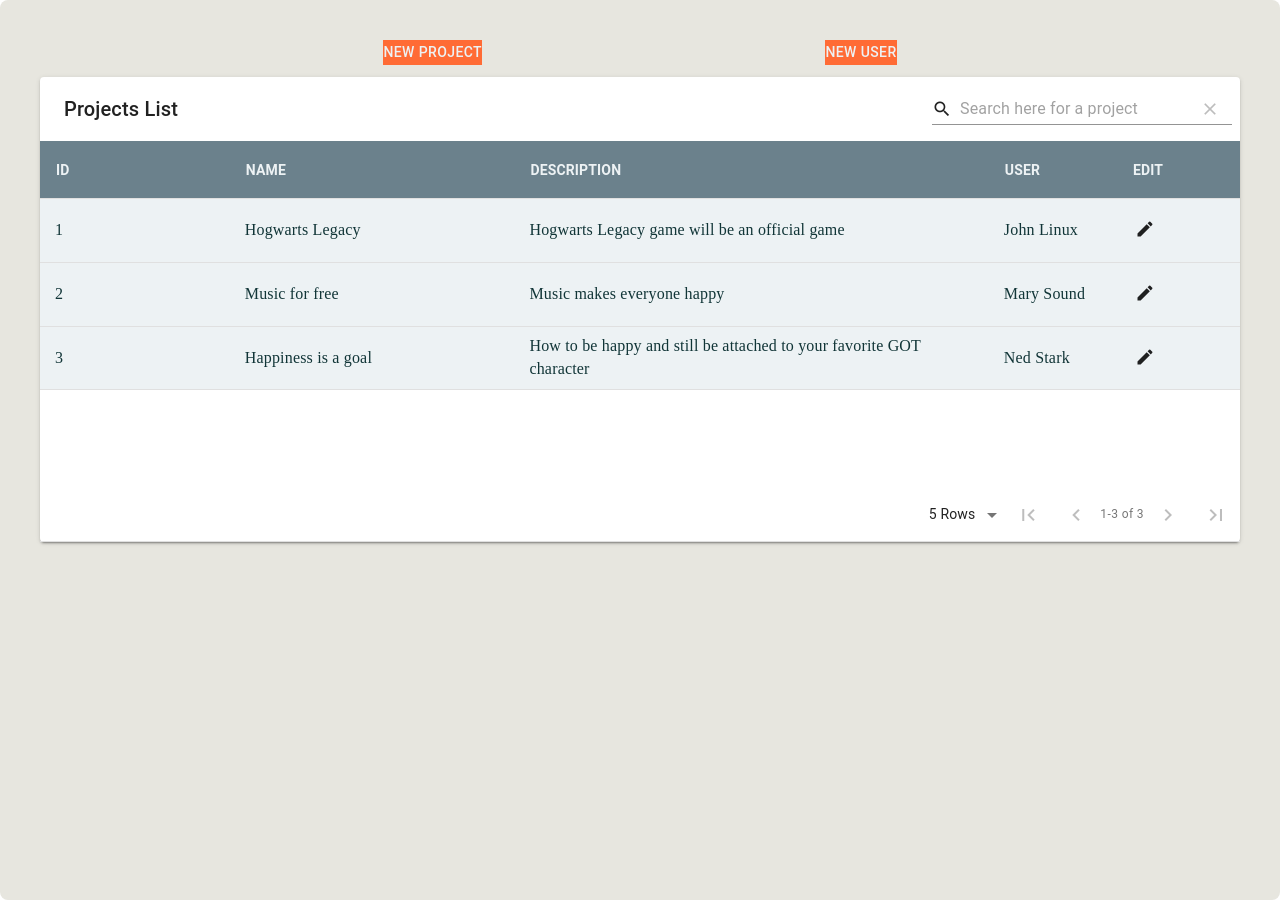
Scenario: Landing › displays the dialog when New Project button is clicked
Click the button "New Project". click: point(433, 52)
box: [383,40,482,64]
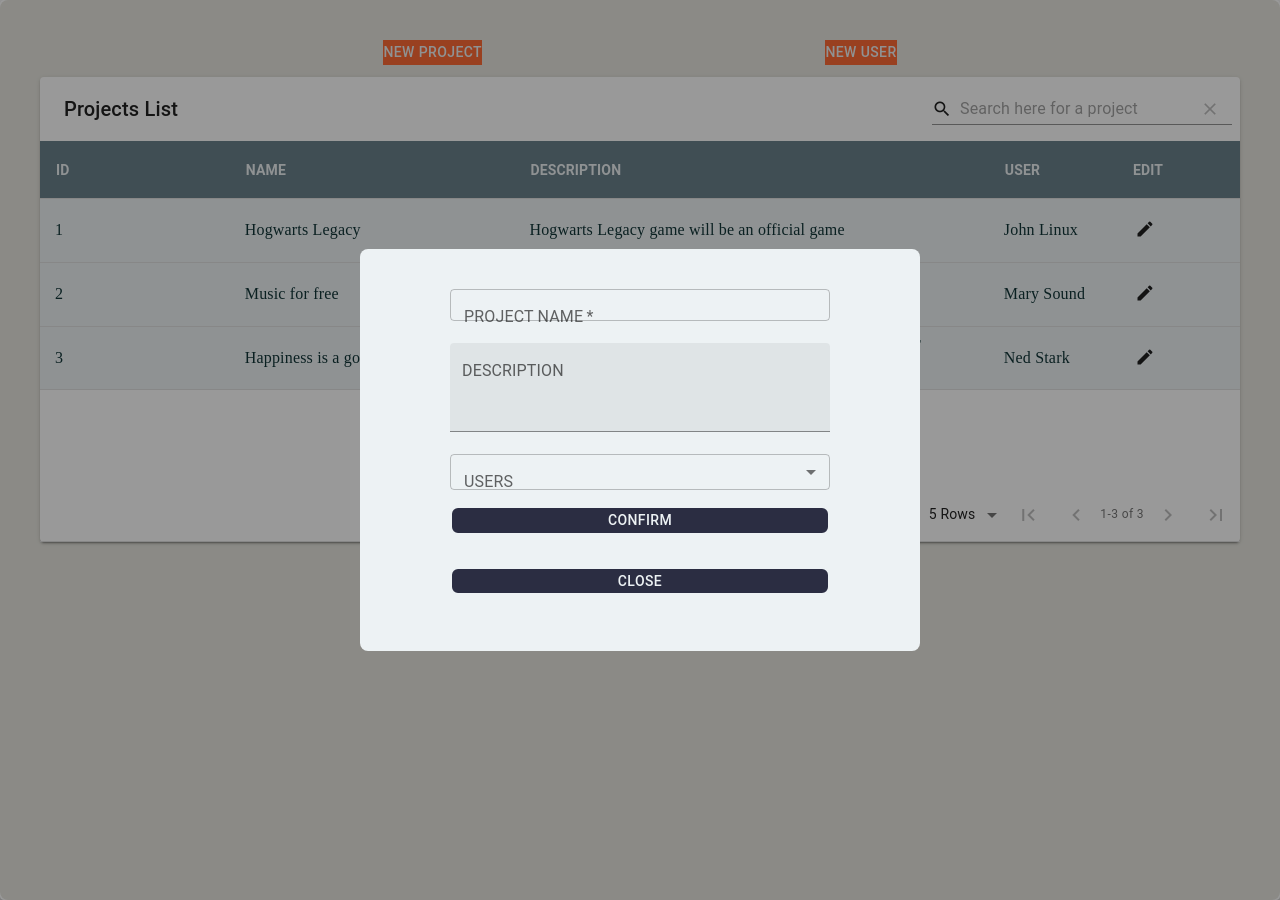
Expected: the element with test id "project-form" is shown, [450,289,830,611]
